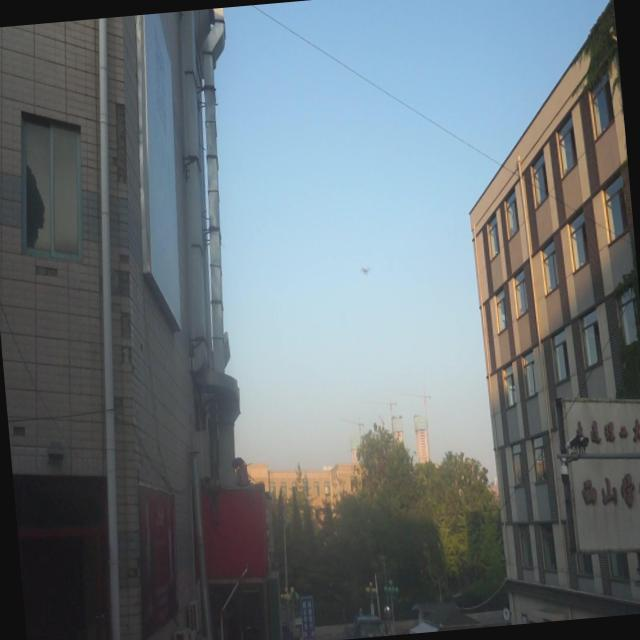drone: (356, 264, 374, 278)
